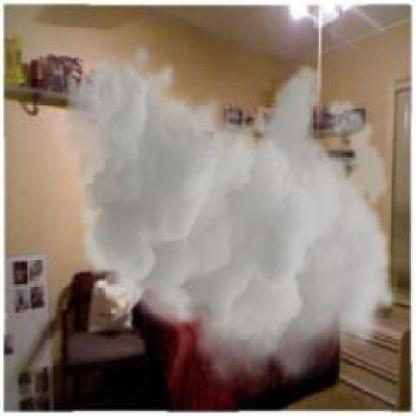Smoke: (61, 41, 400, 394)
